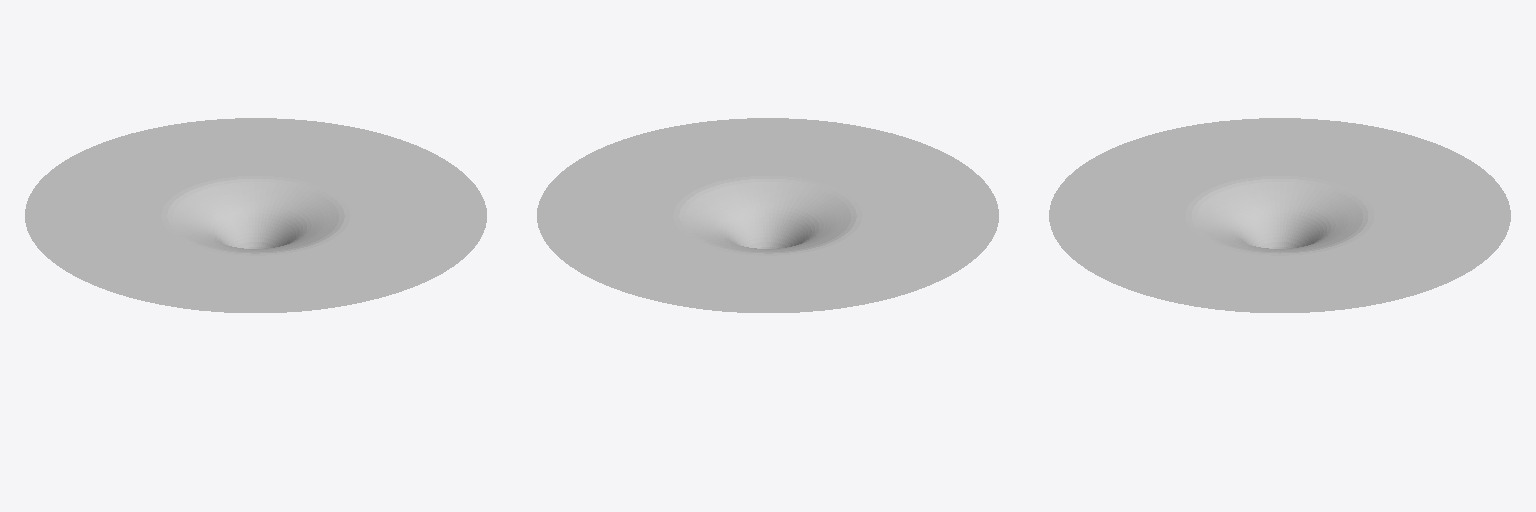
The model's file is cpkv3.obj.
3 views of the same model, side by side, from view 1: azimuth 30°, elevation 25°; view 2: azimuth 150°, elevation 25°; view 3: azimuth 270°, elevation 25° (orthographic).
Visible parts, largest first — view 1: cpkv3.json; view 2: cpkv3.json; view 3: cpkv3.json.
Part boxes in pixels (bbox=[...]): cpkv3.json: bbox=[25, 118, 486, 312]; cpkv3.json: bbox=[537, 118, 998, 312]; cpkv3.json: bbox=[1049, 118, 1510, 312].
Size of the model in its own units: 20.59 by 3.96 by 20.57.